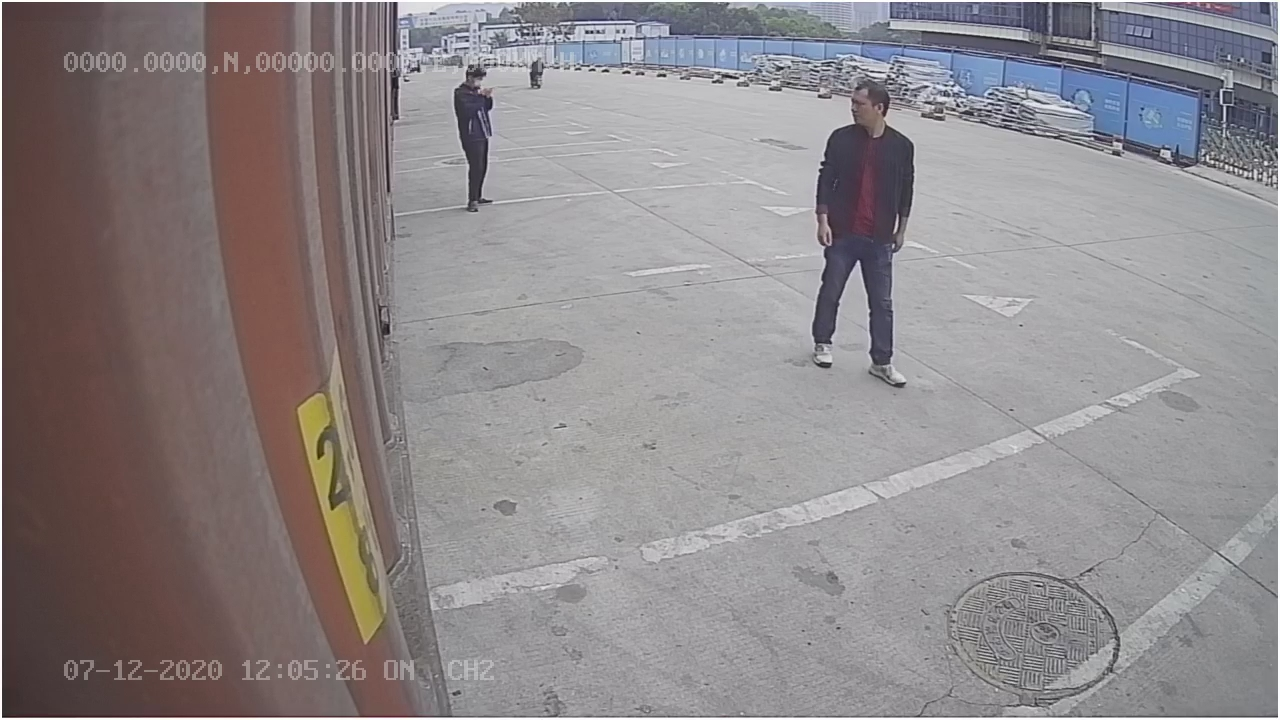person: (810, 80, 919, 390)
